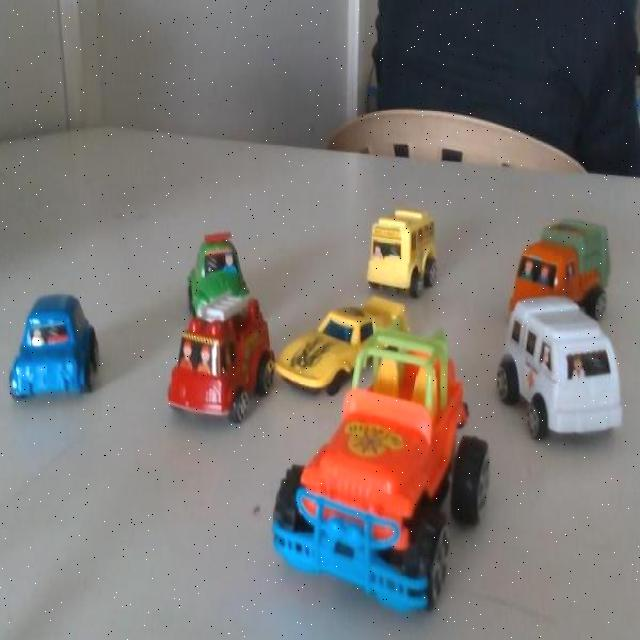car: (269, 415, 431, 616), (263, 280, 412, 423), (0, 282, 107, 426), (504, 311, 621, 437), (162, 296, 255, 435), (504, 212, 602, 329), (174, 233, 249, 338), (355, 199, 424, 297)
